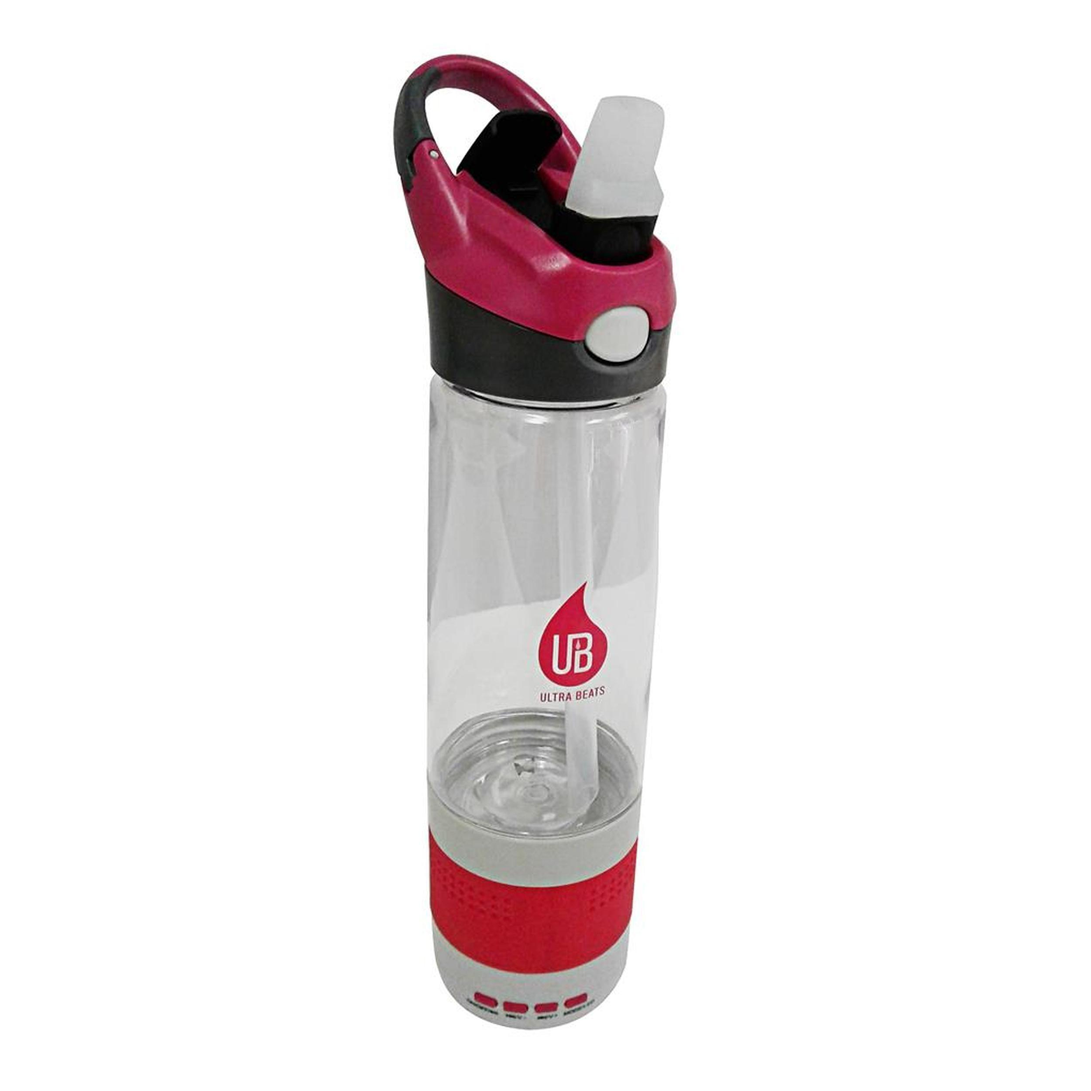gym bottle: (395, 48, 681, 1032)
